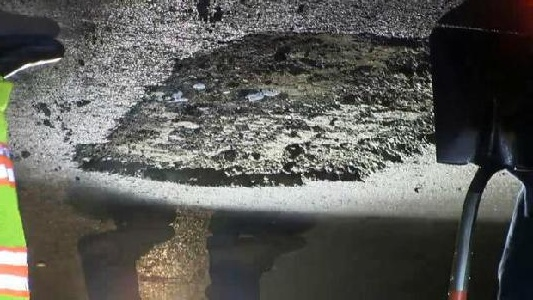pothole: (67, 33, 466, 191)
